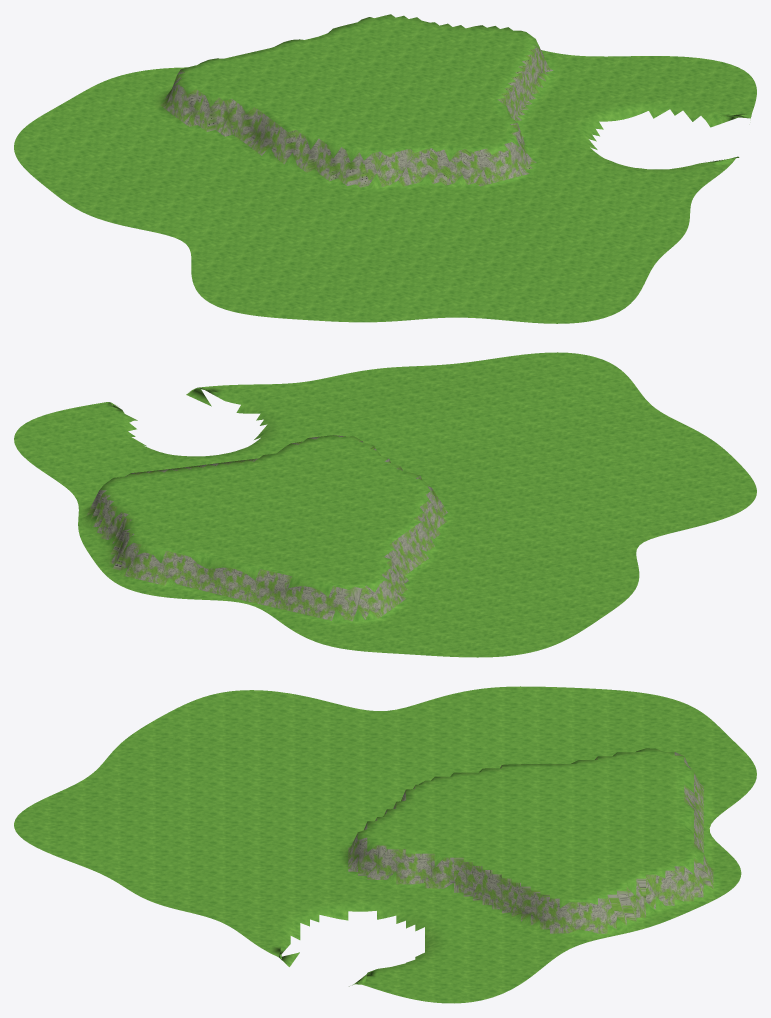
File: Terrain_Grass.002.fbx
3 renders of one model, top to bottom at view 1: azimuth 30°, elevation 25°; view 2: azimuth 150°, elevation 25°; view 3: azimuth 270°, elevation 25°, orthographic. The views are drawn at different scales.
Parts seen in each view (by area): view 1: Terrain_Grass.002; view 2: Terrain_Grass.002; view 3: Terrain_Grass.002.
Boxes of the visible parts, x1,y1,x2,y2 form: Terrain_Grass.002: (14,14,756,323); Terrain_Grass.002: (14,352,756,657); Terrain_Grass.002: (14,686,756,1003).
Bounding box in the file's own units: 42.87 × 2.22 × 42.55.
